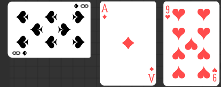8C: (12, 50, 29, 57)
AD: (101, 3, 110, 21)
